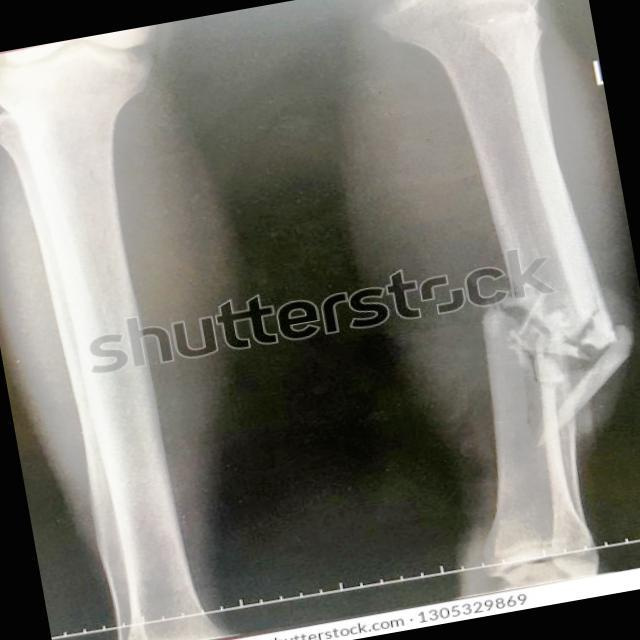Comminuted Fracture: (473, 292, 632, 407)
